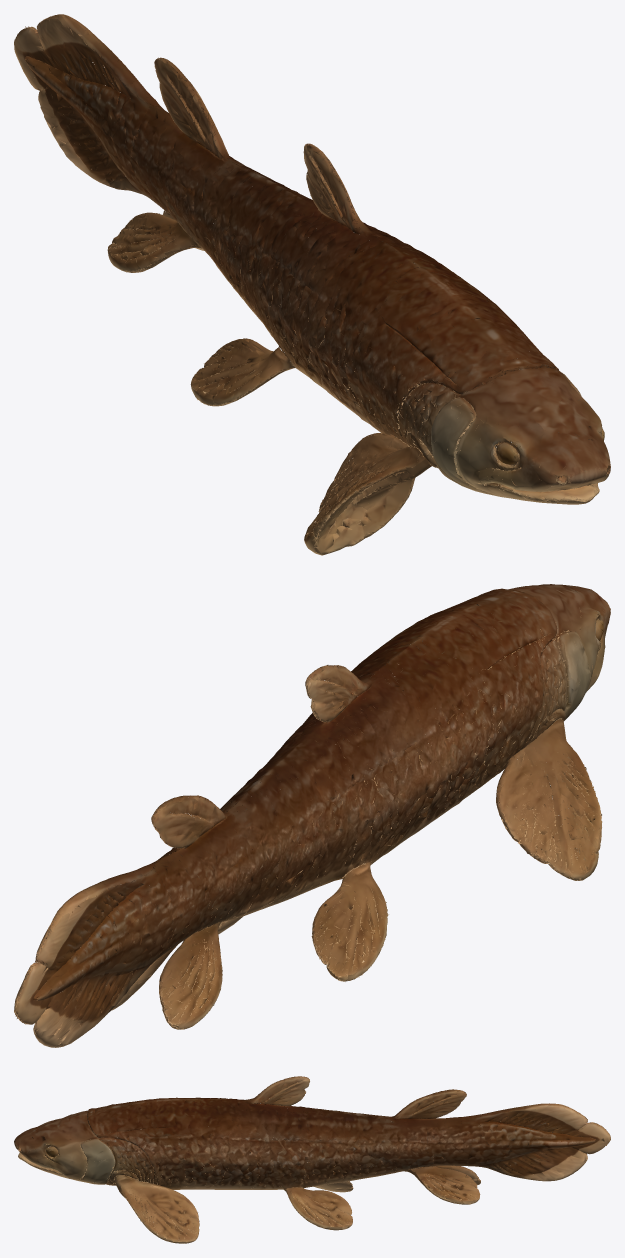
Rendered from lungfish.glb.
3 views of the same model, one above another, from view 1: azimuth 30°, elevation 25°; view 2: azimuth 150°, elevation 25°; view 3: azimuth 270°, elevation 25° (orthographic). The views are drawn at different scales.
Parts seen in each view (by area): view 1: model; view 2: model; view 3: model.
Part boxes in pixels (x1,y1,x2,y2): model: (14, 14, 610, 555); model: (14, 584, 610, 1047); model: (14, 1076, 610, 1243).
Bounding box in the file's own units: 0.517 × 0.4971 × 1.9.
1 material, 1 textured.
